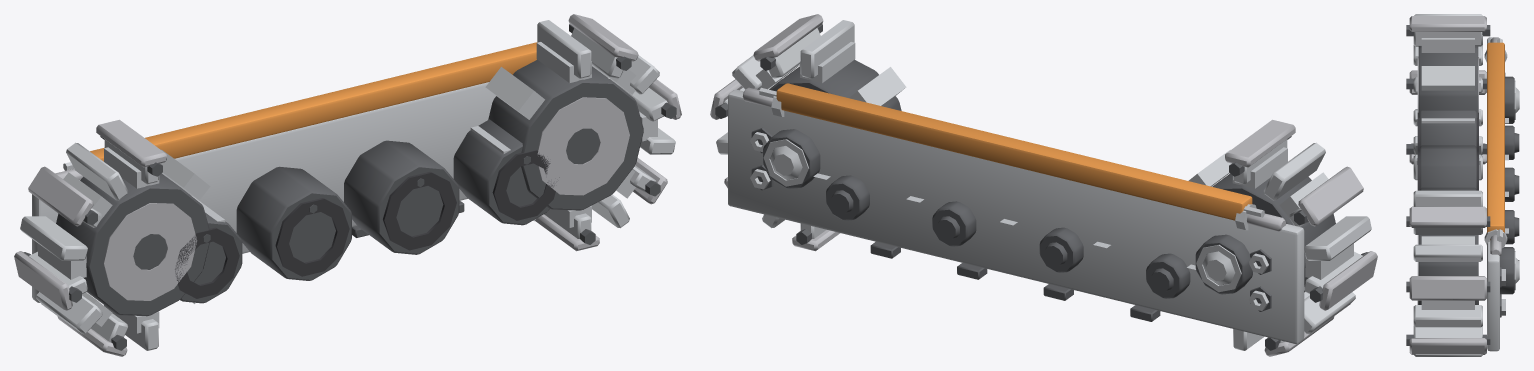
File: adaptive_tracks.glb
3 renders of one model, left to right at view 1: azimuth 30°, elevation 25°; view 2: azimuth 150°, elevation 25°; view 3: azimuth 270°, elevation 25°, orthographic. The views are drawn at different scales.
Parts seen in each view (by area): view 1: body, spin_sprocket_f, spin_sprocket_r, spin_roller_1, spin_roller_2, spin_roller_3, spin_roller_0; view 2: body, spin_sprocket_r, spin_sprocket_f; view 3: body, spin_sprocket_r, spin_roller_1, spin_sprocket_f, spin_roller_0, spin_roller_2.
Boxes of the visible parts, x1,y1,x2,y2 form: body: [14, 14, 681, 356]; spin_sprocket_f: [470, 42, 657, 227]; spin_sprocket_r: [38, 147, 225, 333]; spin_roller_1: [236, 166, 351, 280]; spin_roller_2: [344, 140, 459, 254]; spin_roller_3: [453, 119, 559, 225]; spin_roller_0: [175, 212, 242, 303]; body: [710, 14, 1377, 356]; spin_sprocket_r: [1188, 147, 1353, 298]; spin_sprocket_f: [756, 42, 906, 186]; body: [1406, 14, 1519, 356]; spin_sprocket_r: [1417, 38, 1519, 123]; spin_roller_1: [1417, 145, 1479, 190]; spin_sprocket_f: [1417, 235, 1519, 309]; spin_roller_0: [1417, 110, 1479, 151]; spin_roller_2: [1420, 187, 1476, 190].
Bounding box in the file's own units: 0.7198 × 0.22 × 0.1402.
